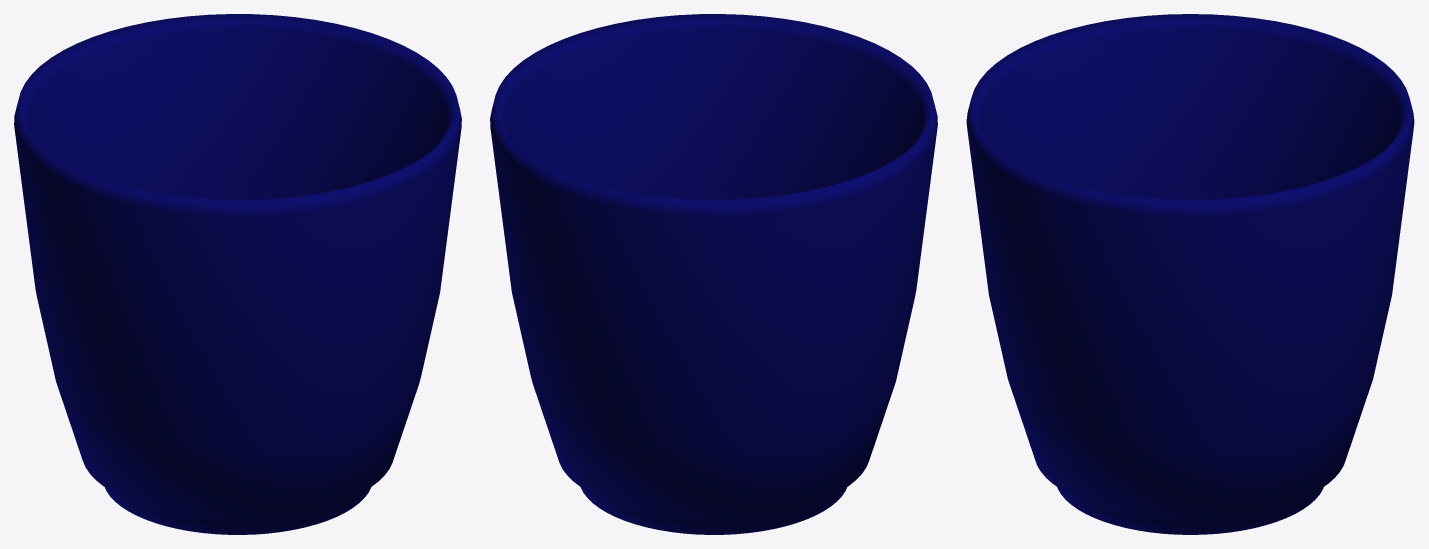
Rendered from cup16.obj.
3 views of the same model, side by side, from view 1: azimuth 30°, elevation 25°; view 2: azimuth 150°, elevation 25°; view 3: azimuth 270°, elevation 25° (orthographic).
Visible parts, largest first — view 1: Cup16.001; view 2: Cup16.001; view 3: Cup16.001.
Boxes of the visible parts, x1,y1,x2,y2 form: Cup16.001: [14, 14, 461, 534]; Cup16.001: [490, 14, 937, 534]; Cup16.001: [966, 14, 1414, 534].
Size of the model in its own units: 4.07 by 3.72 by 4.07.
